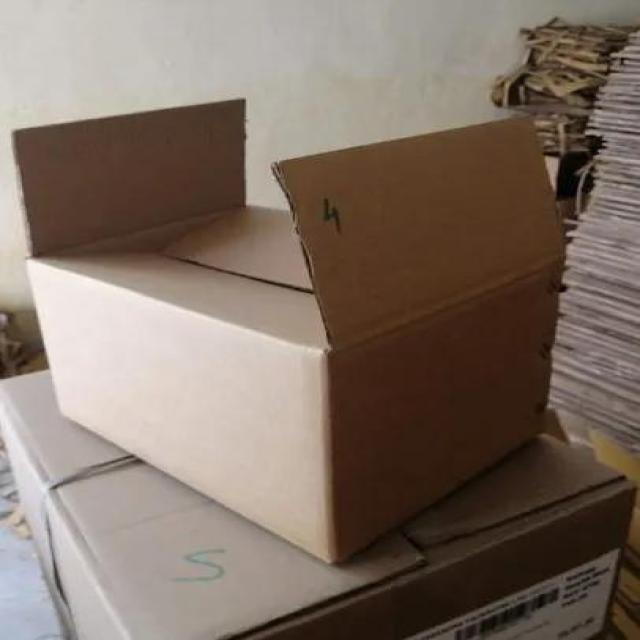cardboard: (11, 94, 567, 566), (0, 367, 640, 640)
